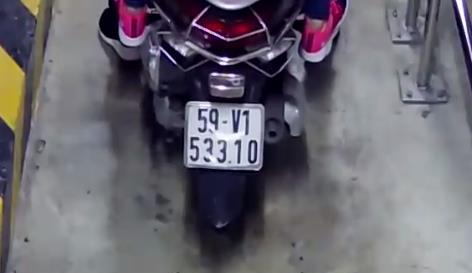lisence: (185, 102, 262, 168)
